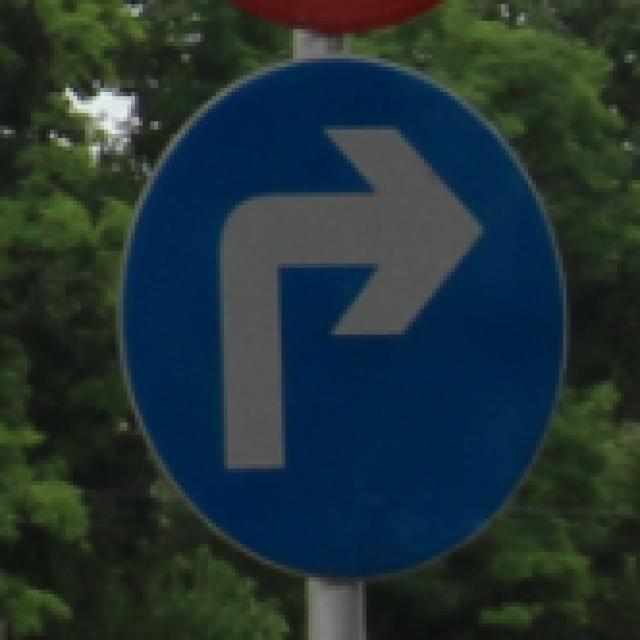Right: (117, 56, 580, 580)
